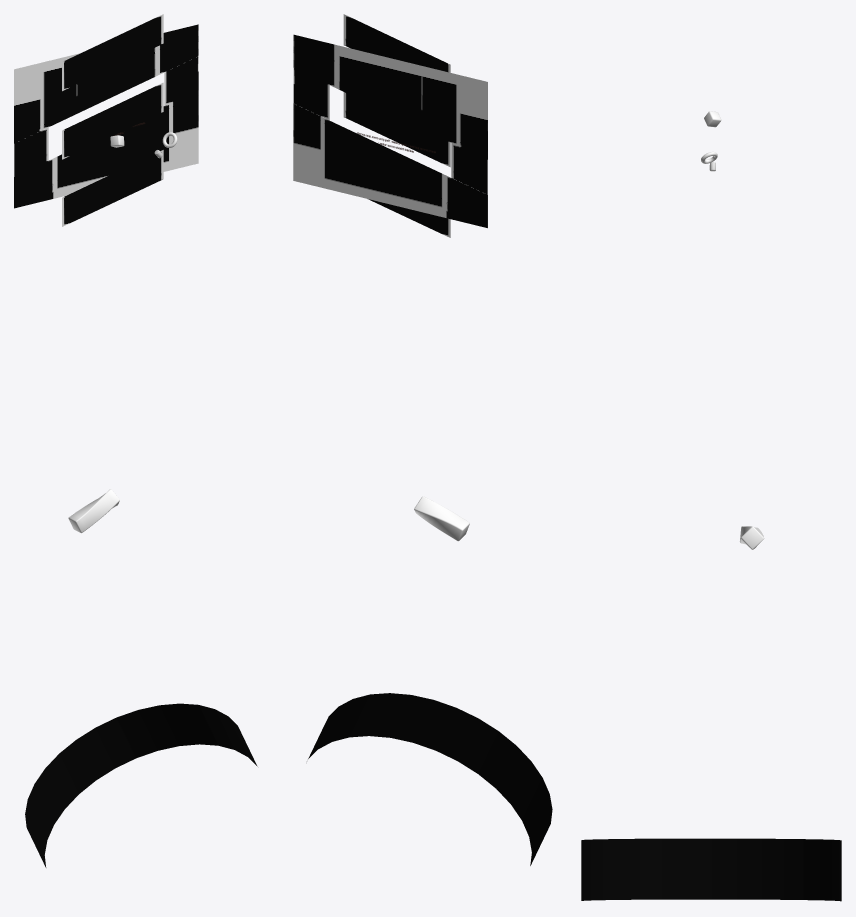
File: section_2.glb
3 renders of one model, left to right at view 1: azimuth 30°, elevation 25°; view 2: azimuth 150°, elevation 25°; view 3: azimuth 270°, elevation 25°, orthographic. The views are drawn at different scales.
Visible parts, largest first — view 1: Flexible, Background, TitleContainer; view 2: Flexible, Background, TitleContainer; view 3: Background.
Part boxes in pixels (left/top/right/bottom): Flexible: left=14, top=14, right=198, bottom=226; Background: left=25, top=703, right=257, bottom=867; TitleContainer: left=68, top=489, right=119, bottom=533; Flexible: left=293, top=14, right=487, bottom=237; Background: left=308, top=693, right=552, bottom=865; TitleContainer: left=414, top=496, right=469, bottom=541; Background: left=581, top=838, right=841, bottom=901.
Bounding box in the file's own units: 24.79 × 94.61 × 24.59.
Materials: 7 (2 with a texture image).
